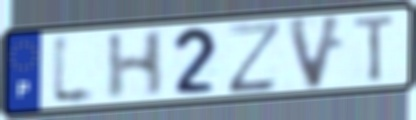2: (169, 24, 222, 100)
H: (105, 27, 168, 103)
L: (49, 30, 101, 109)
T: (351, 12, 398, 85)
V: (283, 12, 347, 93)
Z: (225, 18, 285, 96)
